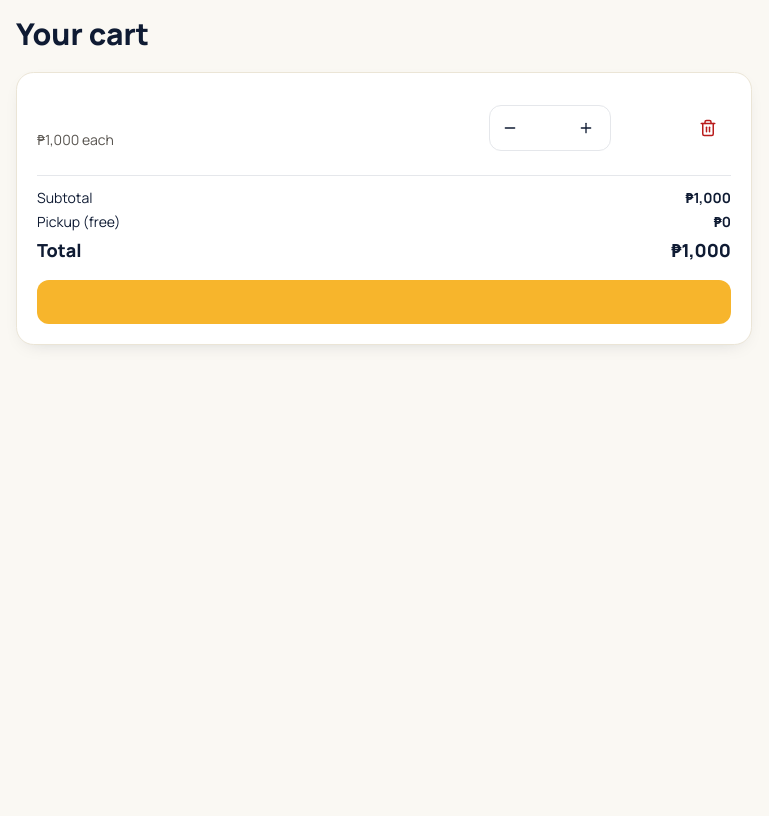
Test: mirrors a completed order using the server total and leaves payment awaiting verification
Click the button "Proceed to Checkout": (384, 302) [37,280,731,324]
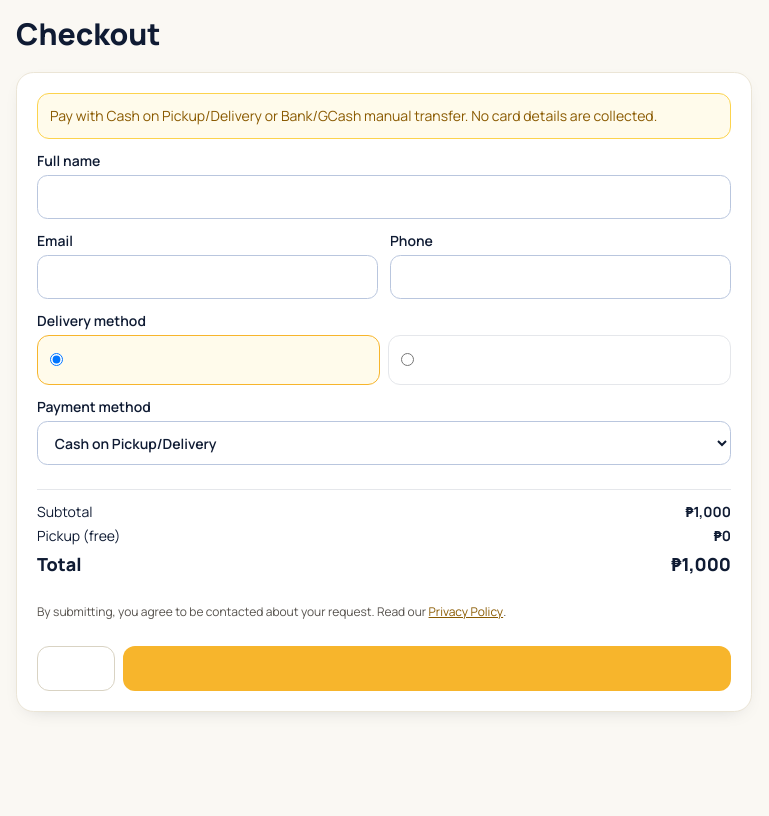
In the field labelled "Full name": (384, 197) [37,175,731,219], type "QA Customer"
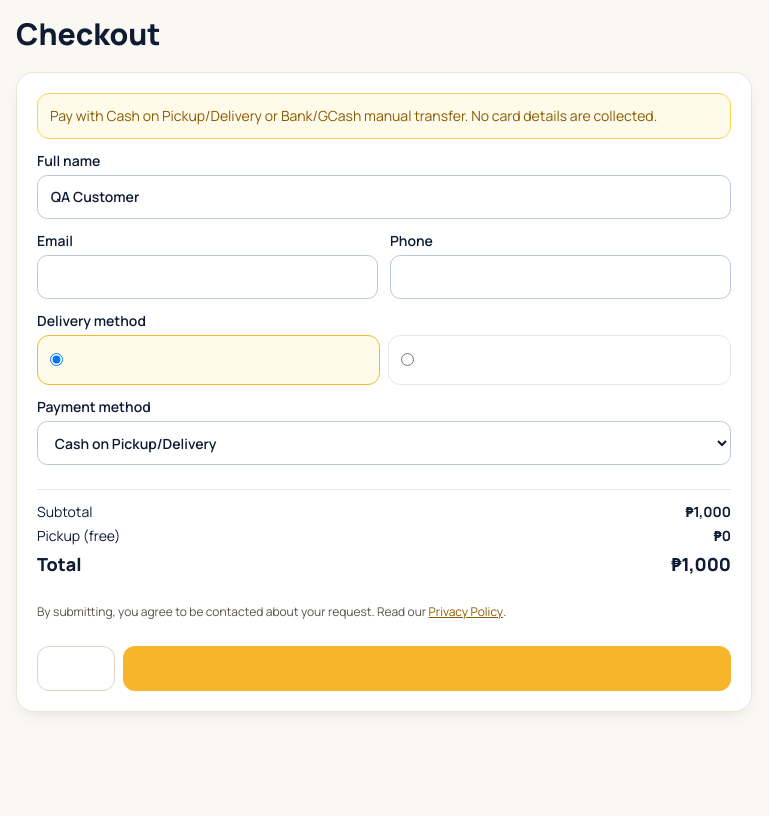
In the field labelled "Email": (208, 277) [37,255,378,299], type "qa@example.ph"
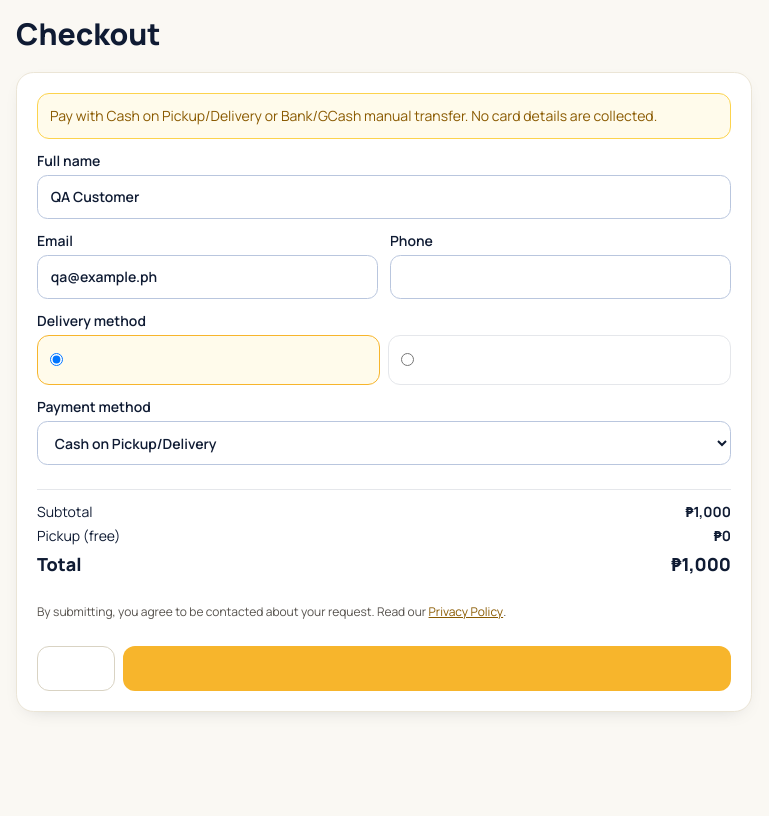
In the field labelled "Phone": (560, 277) [390,255,731,299], type "09171234567"
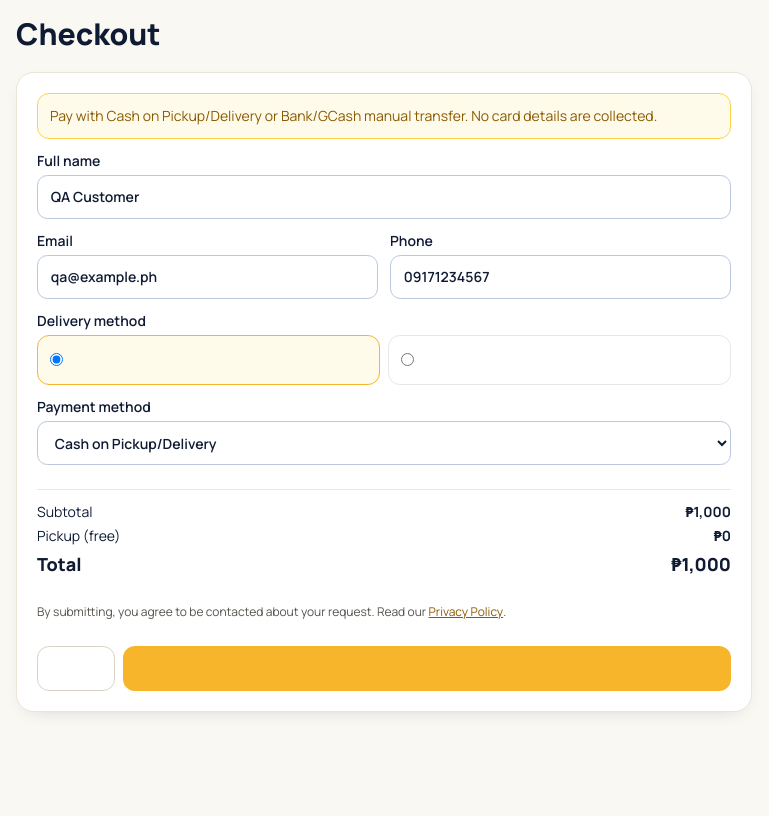
Select "Bank/GCash manual transfer" in the dropdown labelled "Payment method": (384, 443) [37,421,731,465]
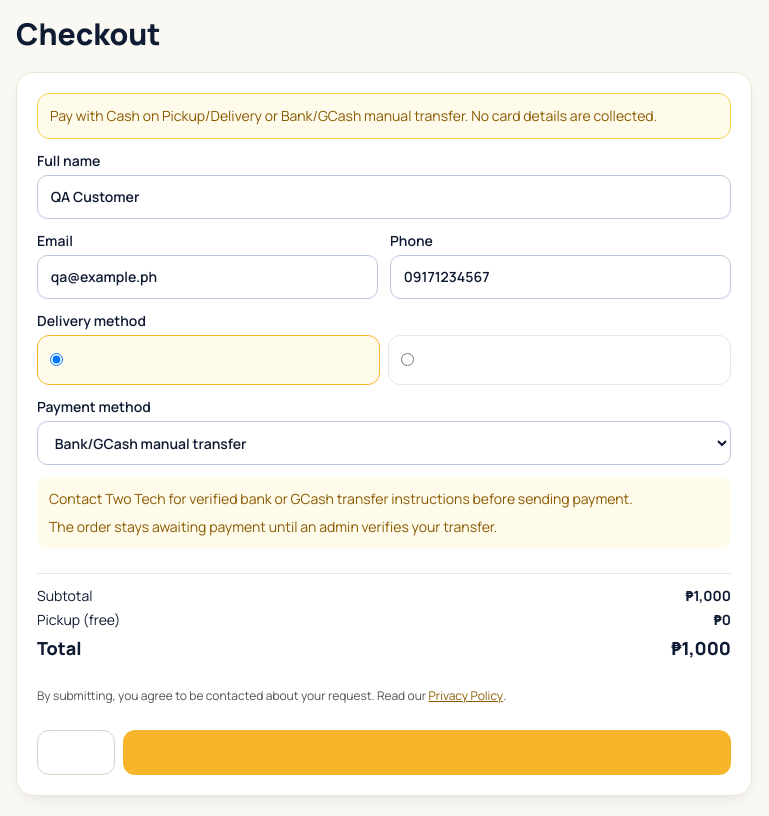
Click the button "Place Order": (427, 753) [122,730,731,775]
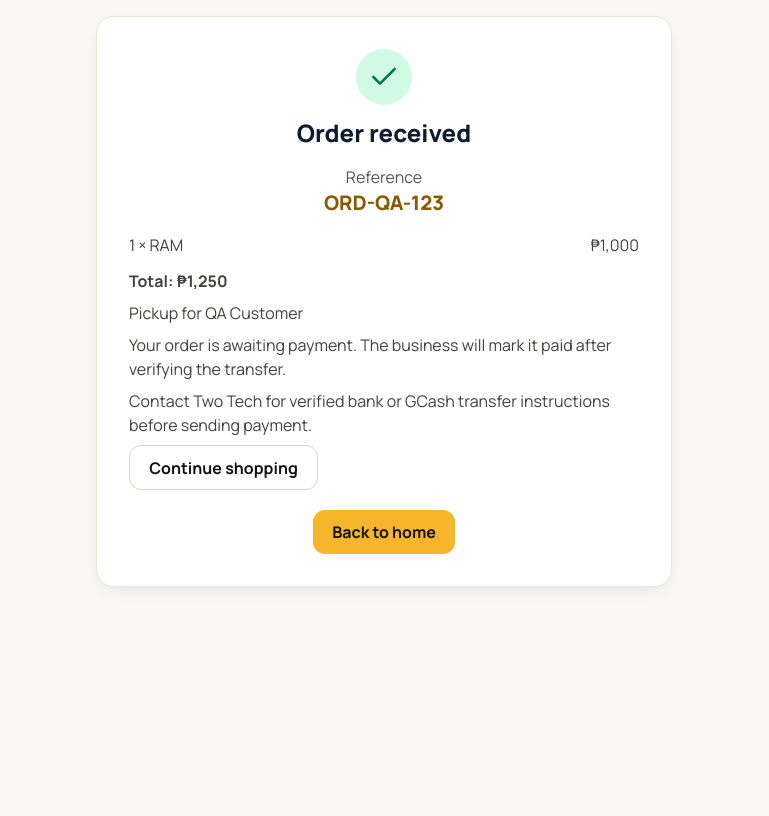
Check: the text "ORD-QA-123" is shown, box [324,189,444,216]
